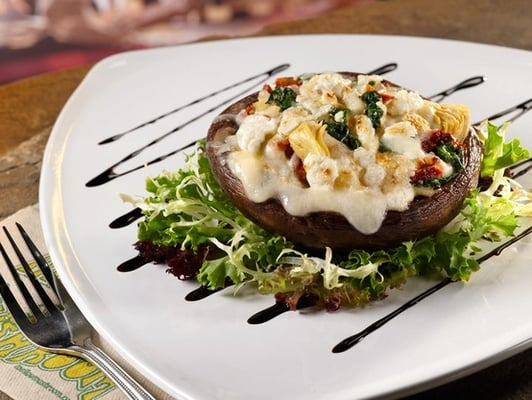burger: (0, 221, 156, 398)
curry: (361, 90, 386, 131), (268, 86, 298, 112)
soup: (204, 68, 480, 253)
